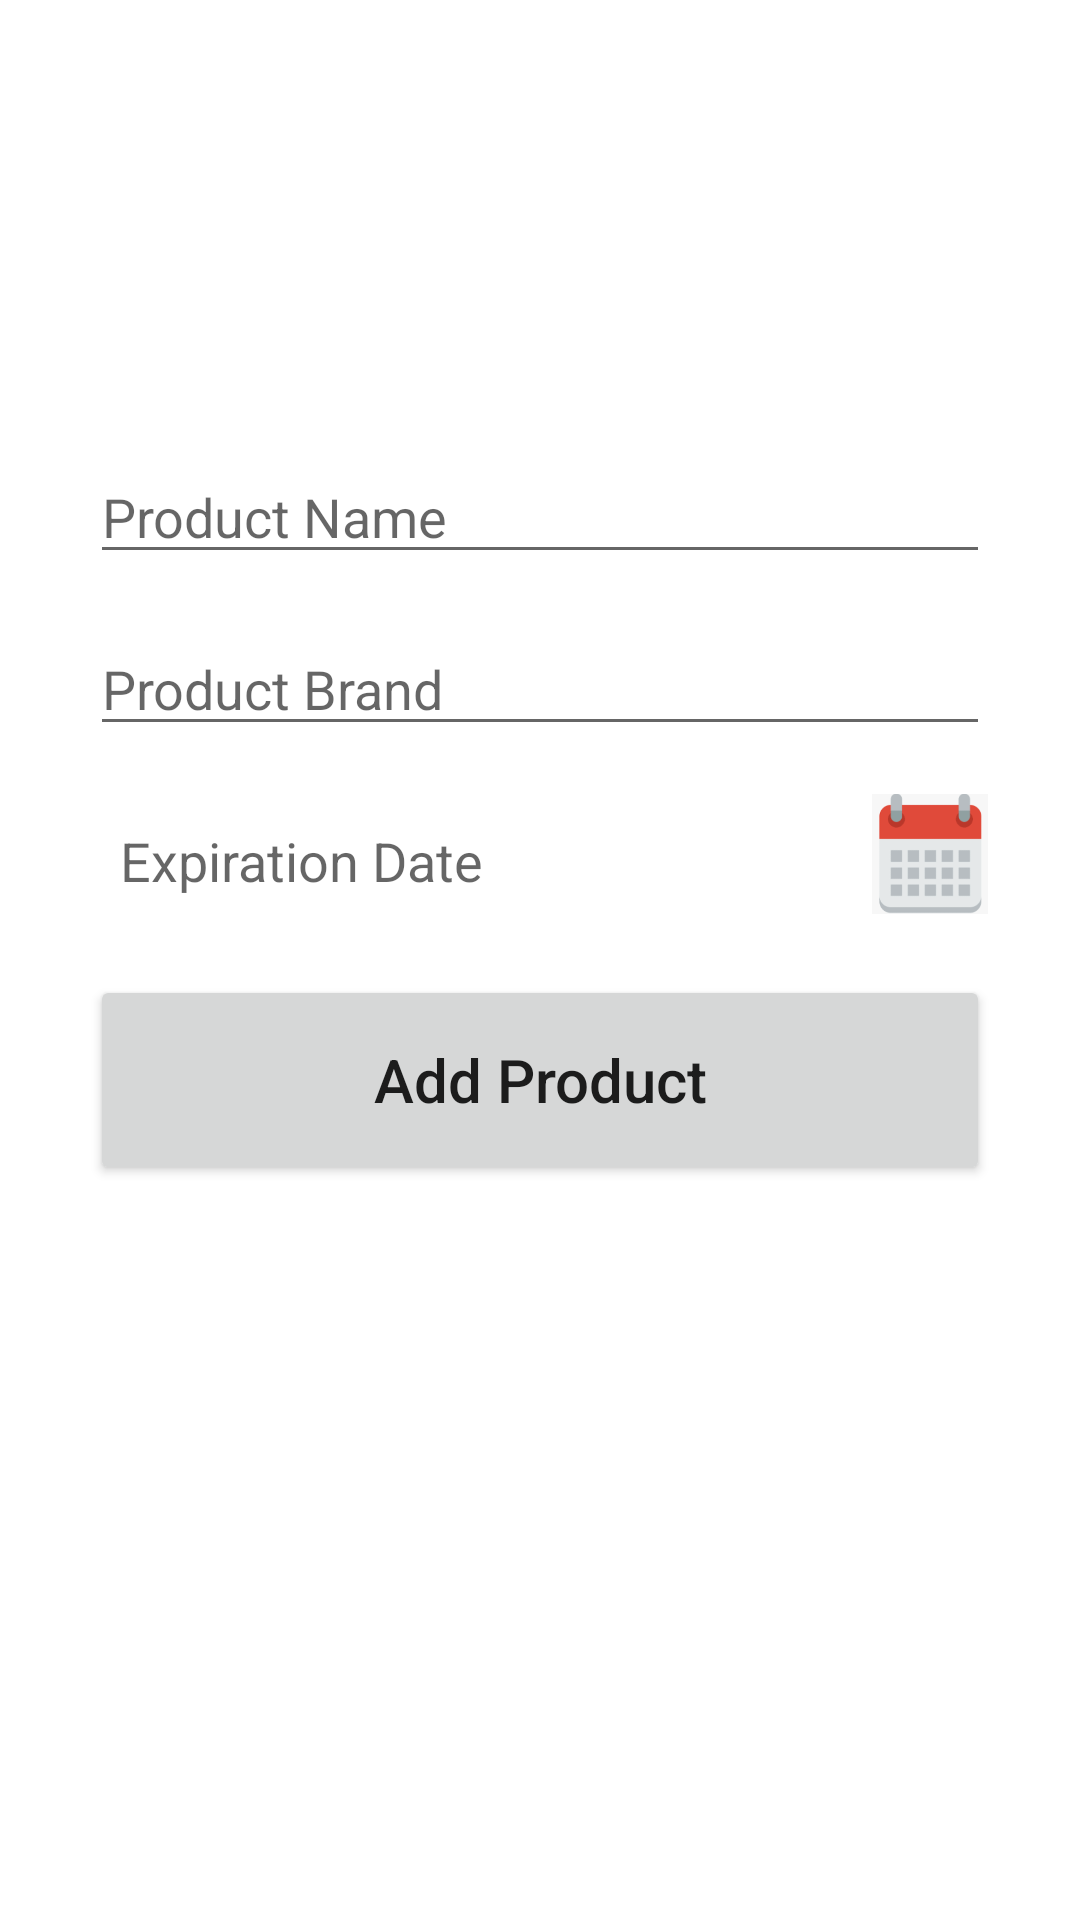

Icons on this 1080x1920 Android screen, each with the point to tap as [x,y]:
Select Date: [930,853]
